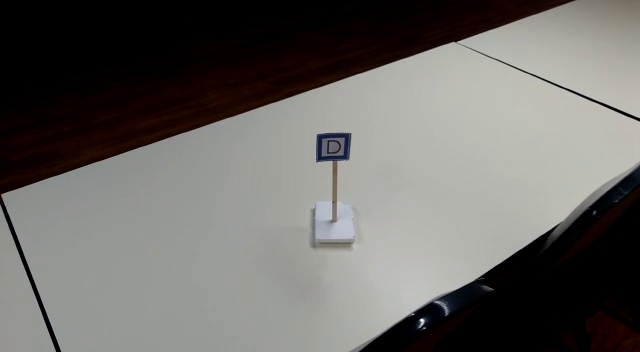durak: (316, 132, 351, 162)
